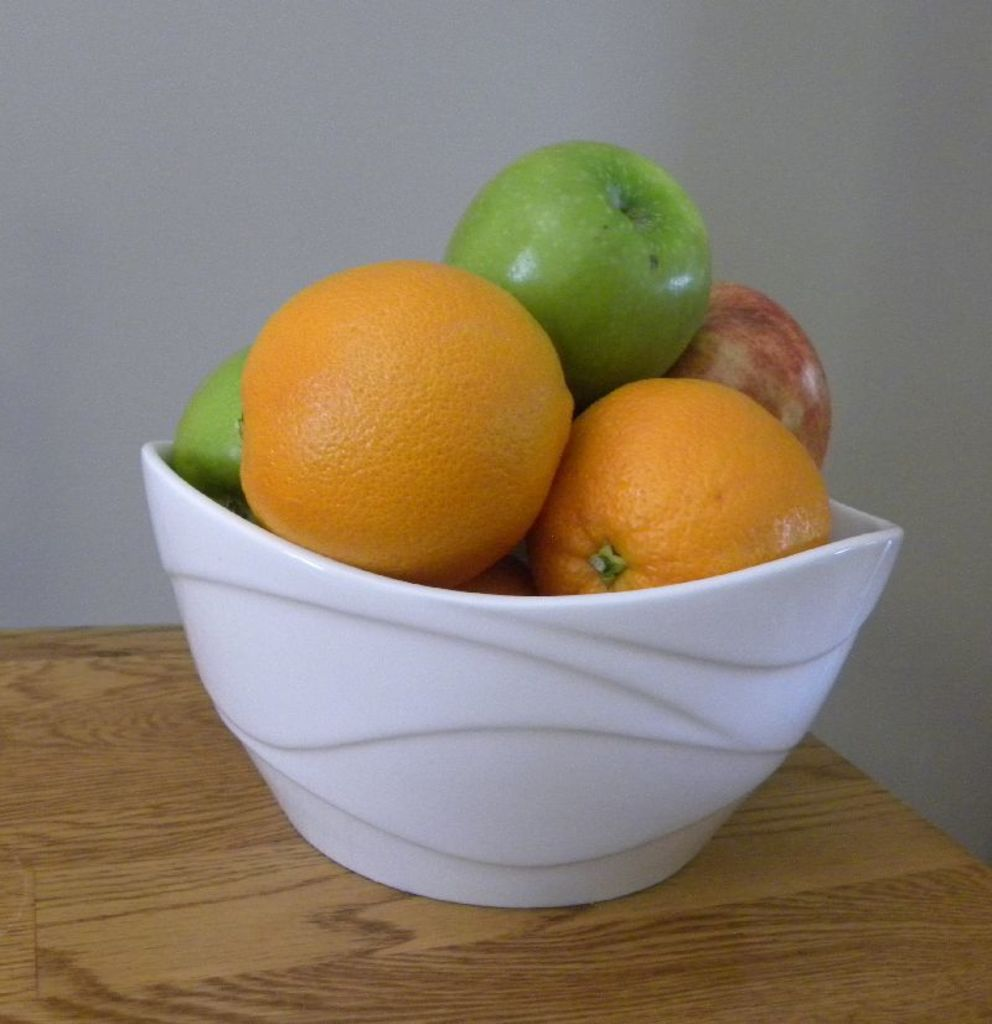Apple: (468, 166, 716, 397), (667, 278, 837, 464), (171, 354, 256, 520)
